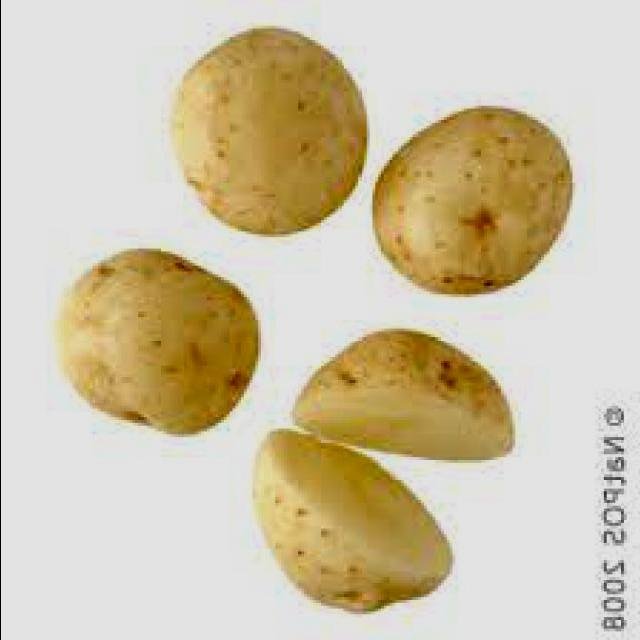potato: (164, 23, 371, 241), (55, 247, 267, 444), (372, 109, 578, 304), (243, 454, 487, 614), (298, 335, 522, 455)
